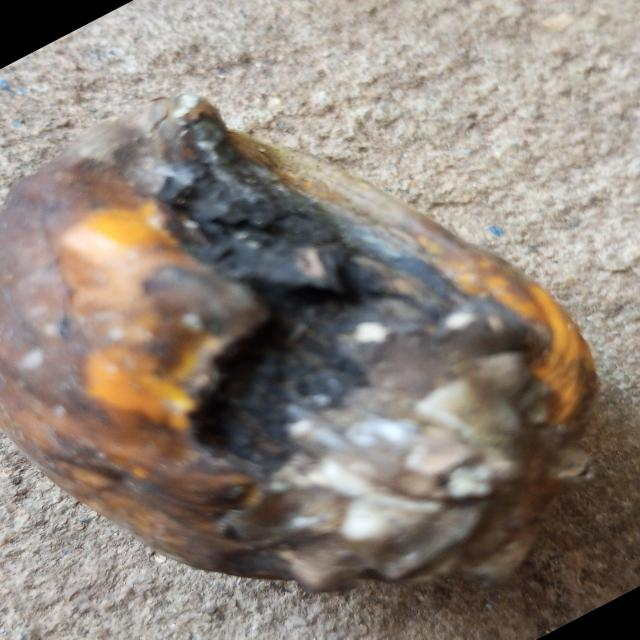damaged: (0, 95, 596, 591)
